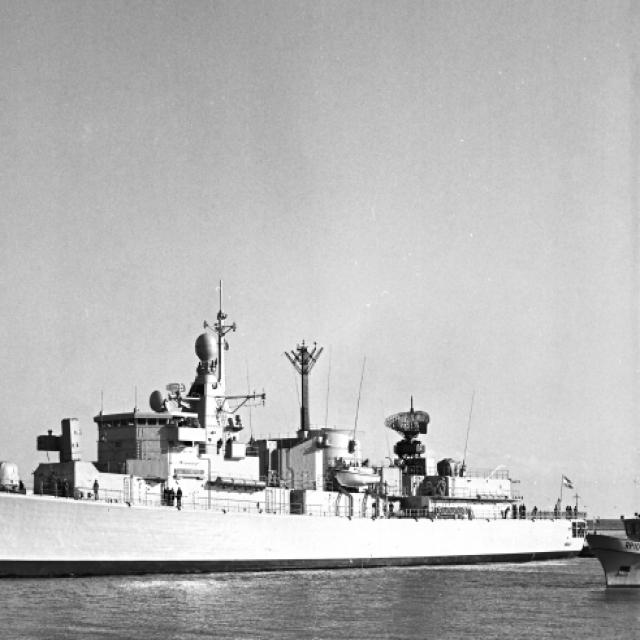Fragata: (1, 275, 598, 598)
